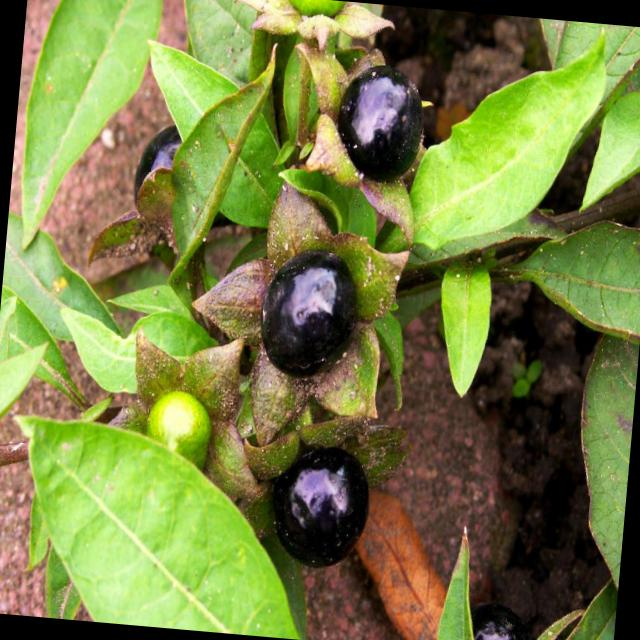Poisonous-Deadly_Nightshade: (9, 0, 286, 293), (182, 192, 428, 488), (89, 335, 288, 571), (278, 23, 461, 232)
